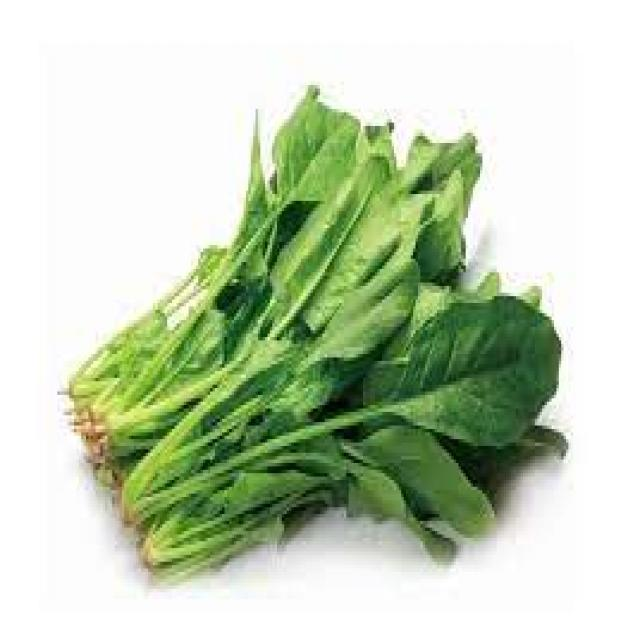spinach: (69, 89, 568, 579)
